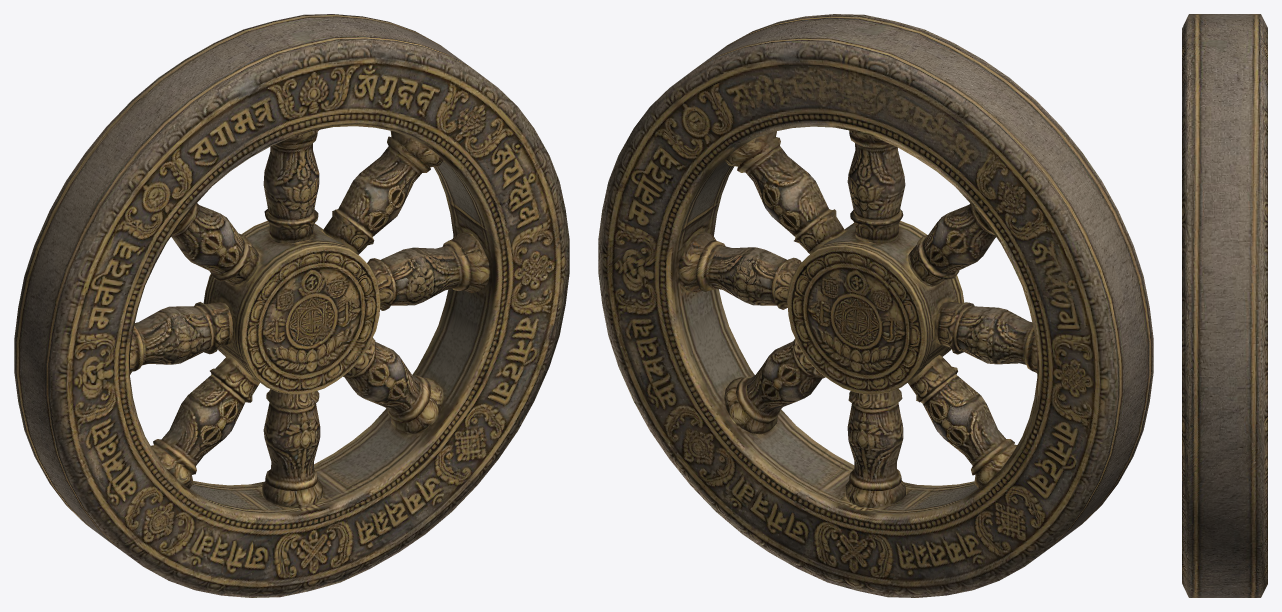
Rendered from 019f5fbe-3c51-7340-8e99-e36c73d82451.glb.
3 renders of one model, left to right at view 1: azimuth 30°, elevation 25°; view 2: azimuth 150°, elevation 25°; view 3: azimuth 270°, elevation 25°, orthographic. The views are drawn at different scales.
Visible parts, largest first — view 1: tripo_node_993b305b-ad82-43f7-b415-07589002fa67; view 2: tripo_node_993b305b-ad82-43f7-b415-07589002fa67; view 3: tripo_node_993b305b-ad82-43f7-b415-07589002fa67.
Part boxes in pixels (left/top/right/bottom): tripo_node_993b305b-ad82-43f7-b415-07589002fa67: left=14, top=14, right=569, bottom=597; tripo_node_993b305b-ad82-43f7-b415-07589002fa67: left=598, top=14, right=1153, bottom=597; tripo_node_993b305b-ad82-43f7-b415-07589002fa67: left=1182, top=14, right=1267, bottom=597.
Size of the model in its own units: 0.998 by 0.998 by 0.1465.
Materials: 1 (1 with a texture image).
